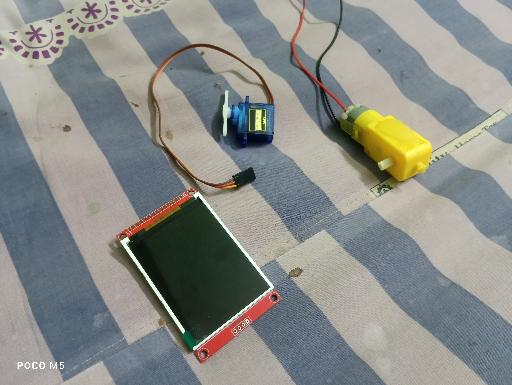Display: (116, 188, 282, 366)
Motor: (339, 102, 433, 183), (221, 89, 275, 147)
